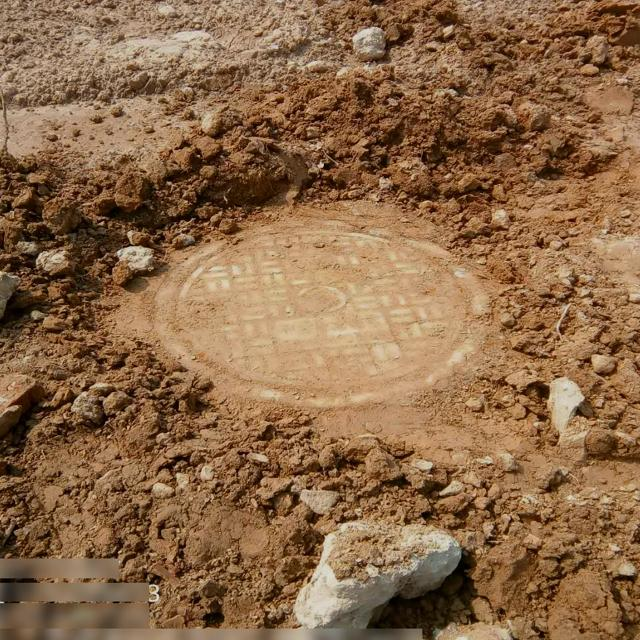good: (151, 220, 492, 403)
